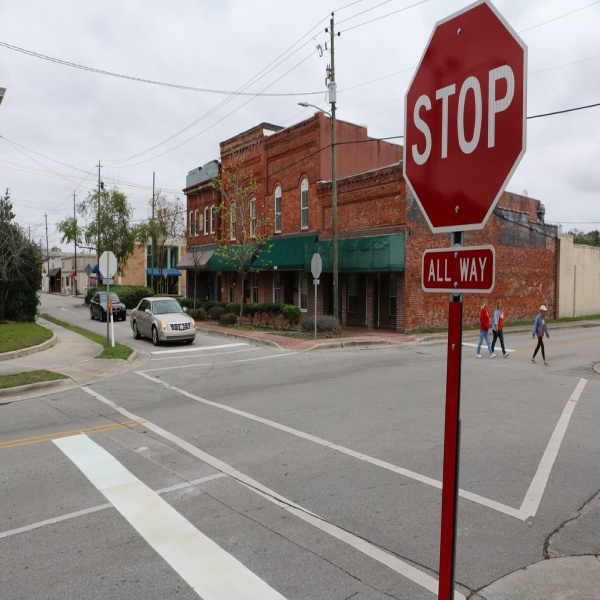stop: (397, 1, 528, 240)
